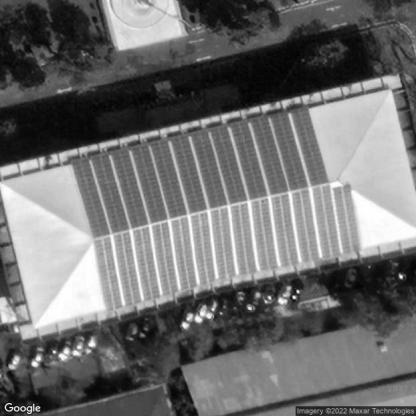solar-pv-panel: (72, 109, 363, 309)
